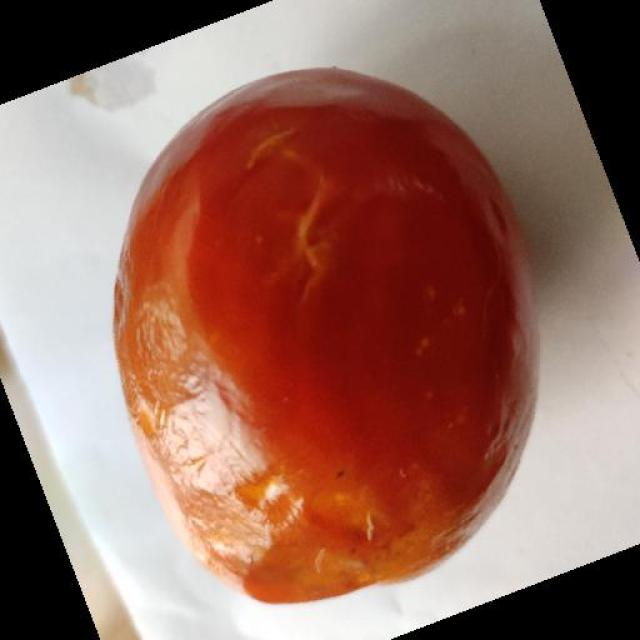Stale_tomato: (113, 92, 523, 559)
